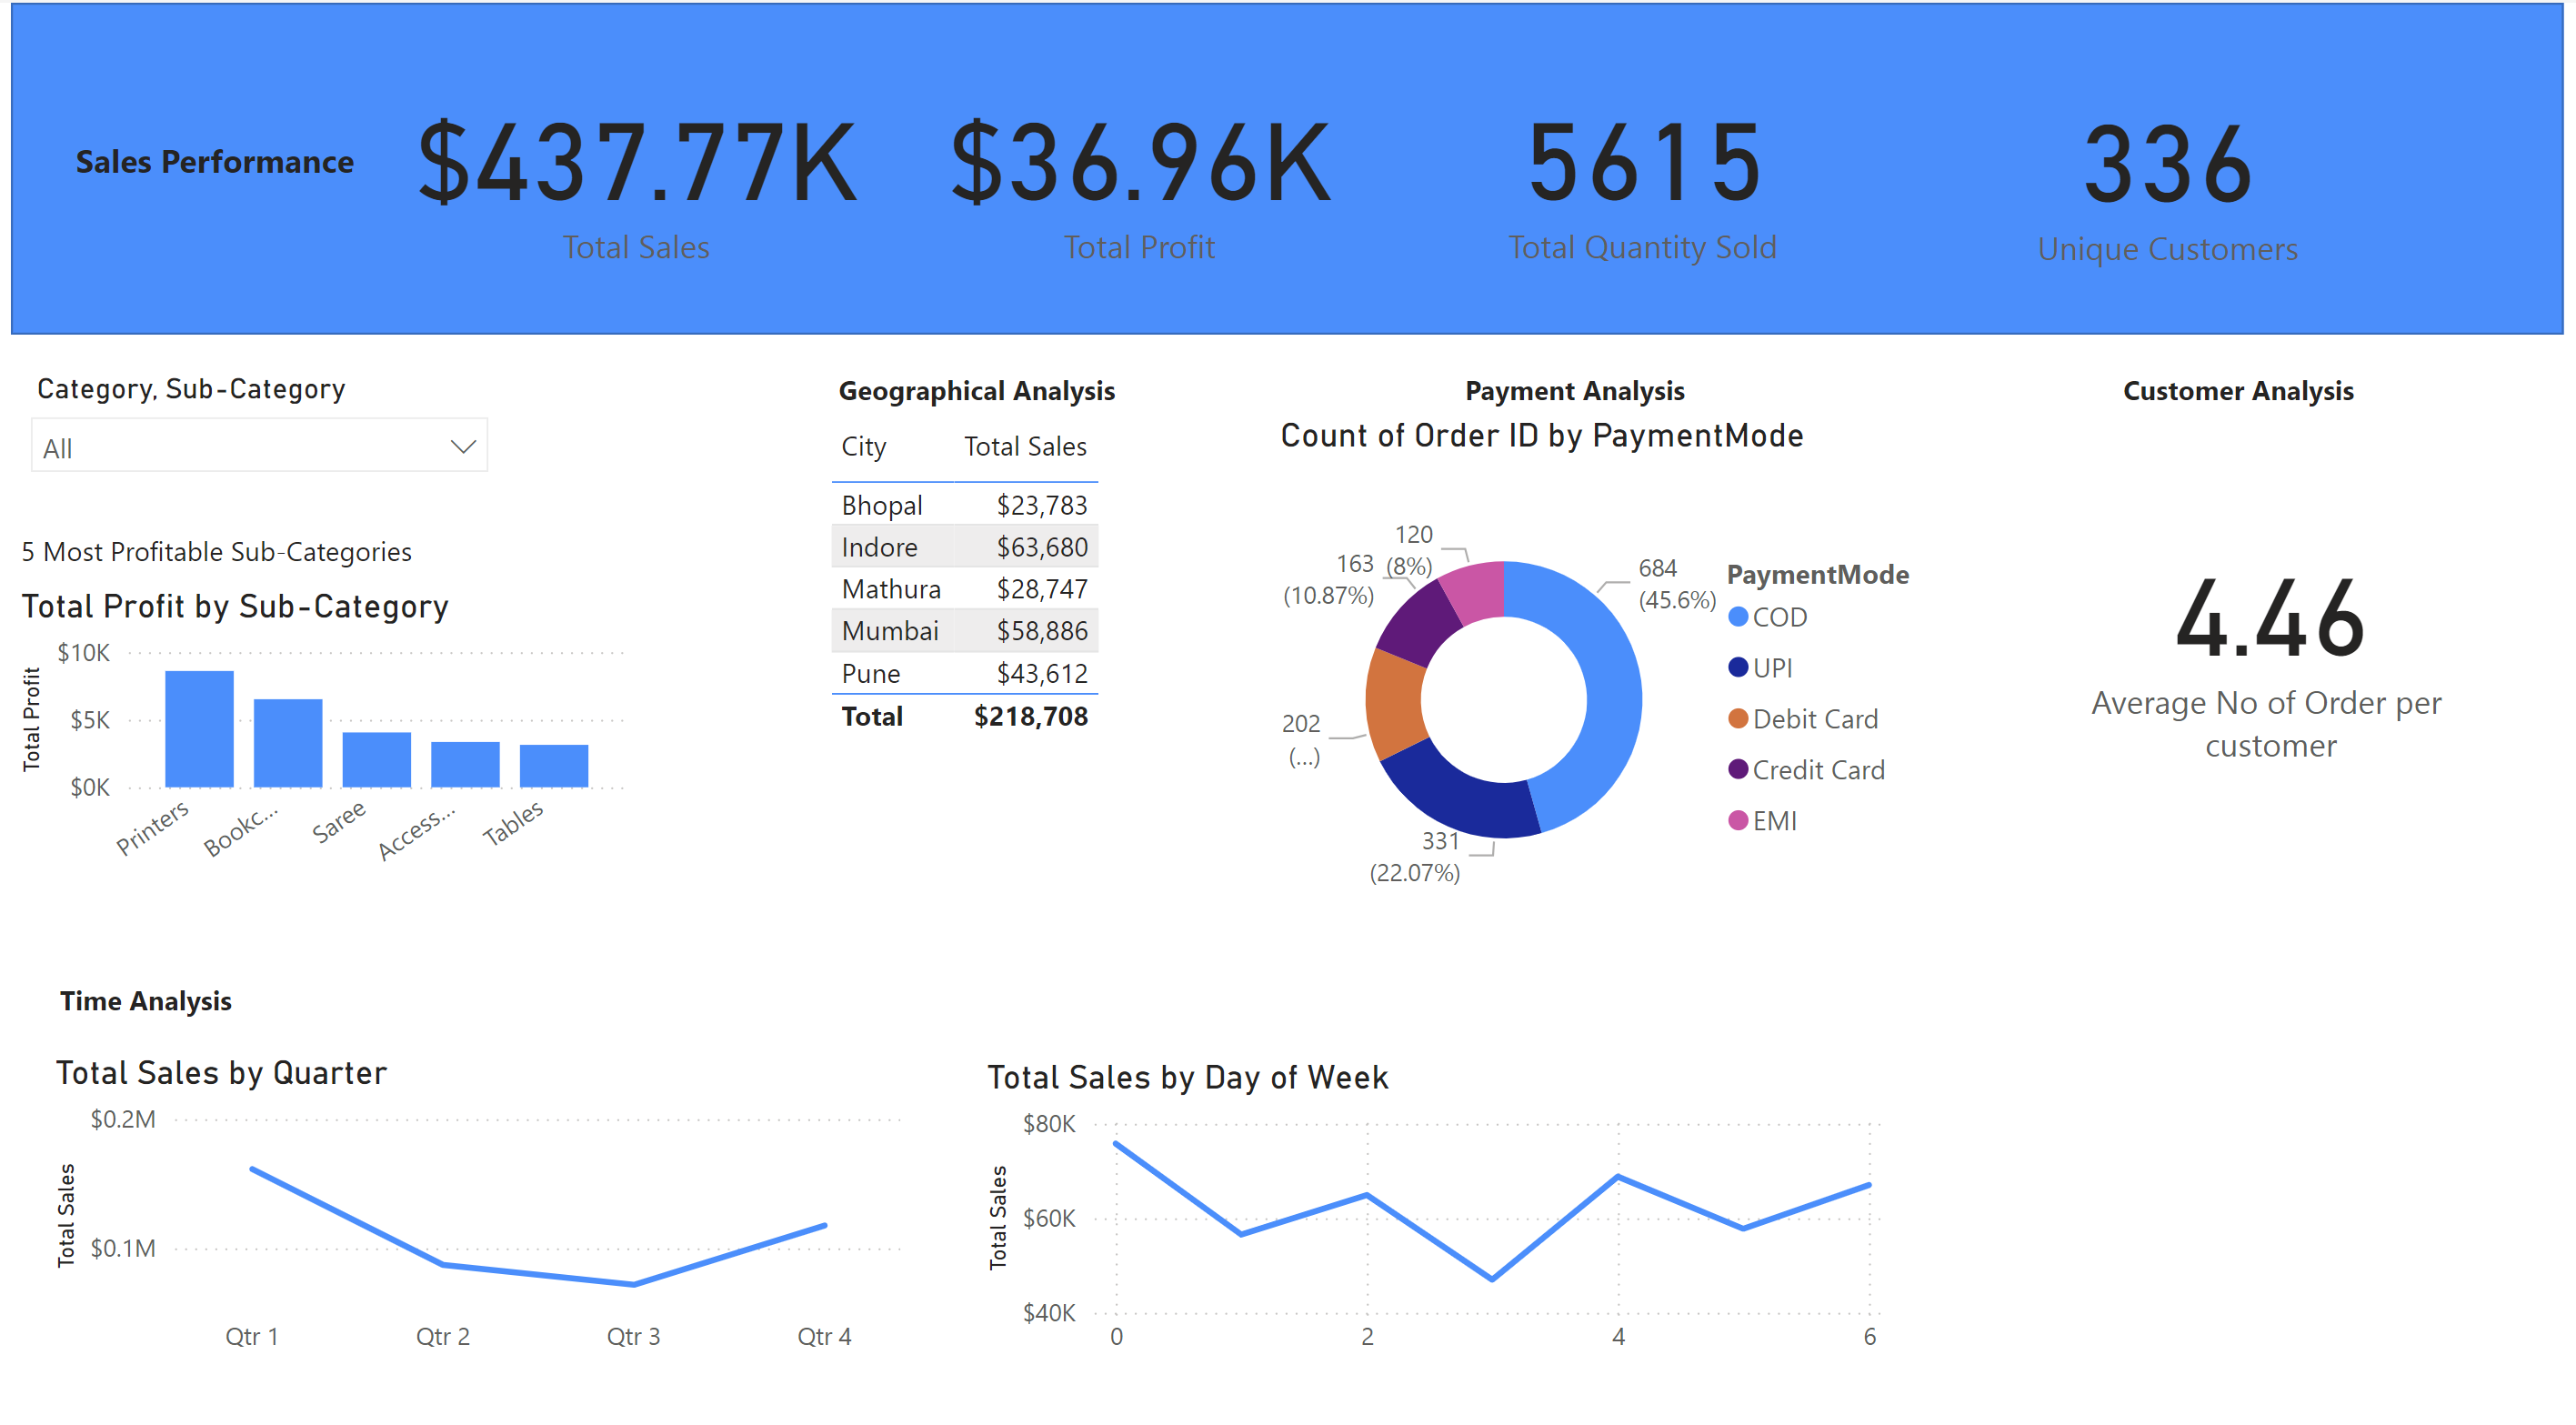

The dashboard page shown, as its layout file describes it:
{"tool":"powerbi","page":{"name":"Page 1","canvas":[1280,720],"ordinal":0},"visuals":[{"type":"shape","box":[9.6,0,1270.2,165.1],"z":0},{"type":"card","fields":{"Values":["Details.Total Profit"]},"box":[445.9,0,250.4,165.1],"z":1000},{"type":"card","fields":{"Values":["Details.Total Sales"]},"box":[195.4,0,250.4,165.1],"z":2000},{"type":"card","fields":{"Values":["Details.Total Quantity Sold"]},"box":[696.3,0,250.4,165.1],"z":3000},{"type":"textbox","box":[26.1,61.9,169.3,39.9],"z":4000},{"type":"slicer","title":"Category","fields":{"Values":["Details.Category","Details.Sub-Category"]},"box":[9.6,177.5,247.7,81.2],"z":5000},{"type":"textbox","box":[9.6,258.7,247.7,31.6],"z":6000},{"type":"clusteredColumnChart","fields":{"Category":["Details.Sub-Category"],"Y":["Details.Total Profit"]},"box":[9.6,290.4,311,150],"z":7000},{"type":"textbox","box":[415.6,177.5,155.5,31.6],"z":8000},{"type":"textbox","box":[728,177.5,155.5,28.9],"z":9000},{"type":"textbox","box":[1055.5,177.5,156.9,31.6],"z":10000},{"type":"columnChart","title":"Sales by City (Top 5)","fields":{"Category":["Orders.City"],"Y":["Details.Total Sales"]},"box":[349.3,231.7,250.1,156.3],"z":11000},{"type":"donutChart","fields":{"Category":["Details.PaymentMode"],"Y":["CountNonNull(Details.Order ID)"]},"box":[635.8,205,339.9,264.2],"z":12000},{"type":"card","fields":{"Values":["Details.Unique Customers"]},"box":[989.4,24.8,185.8,117],"z":13000},{"type":"card","fields":{"Values":["Details.Average Number of Order per customer"]},"box":[1026.6,205,213.3,207.8],"z":14000},{"type":"textbox","box":[28.1,482.1,105.3,42.1],"z":17000},{"type":"columnChart","title":"Profit by Month","fields":{"Category":["Orders.Order Date.Variation.Date Hierarchy.Month"],"Y":["Details.Total Sales","Details.Total Profit"]},"box":[391.6,470.7,888.1,250.1],"z":18000},{"type":"lineChart","fields":{"Category":["Orders.Order Date.Variation.Date Hierarchy.Quarter"],"Y":["Details.Total Sales"]},"box":[9.6,524.3,311,195.7],"z":18001}]}

Visuals, with their boxes in screenshot pixels (x1, y1, x2, y2), scaled from the page's 1280x720 canvas onto the 2576x1425 screenshot:
shape: [x1=19, y1=0, x2=2575, y2=326]
card - Details.Total Profit: [x1=897, y1=0, x2=1401, y2=326]
card - Details.Total Sales: [x1=393, y1=0, x2=897, y2=326]
card - Details.Total Quantity Sold: [x1=1401, y1=0, x2=1905, y2=326]
textbox: [x1=53, y1=123, x2=393, y2=202]
"Category" slicer: [x1=19, y1=351, x2=517, y2=512]
textbox: [x1=19, y1=512, x2=517, y2=575]
clusteredColumnChart - Details.Sub-Category x Details.Total Profit: [x1=19, y1=575, x2=646, y2=871]
textbox: [x1=837, y1=351, x2=1149, y2=414]
textbox: [x1=1465, y1=351, x2=1778, y2=408]
textbox: [x1=2124, y1=351, x2=2440, y2=414]
"Sales by City (Top 5)" columnChart: [x1=703, y1=458, x2=1207, y2=768]
donutChart - Details.PaymentMode x CountNonNull(Details.Order ID): [x1=1279, y1=406, x2=1963, y2=928]
card - Details.Unique Customers: [x1=1991, y1=49, x2=2365, y2=281]
card - Details.Average Number of Order per customer: [x1=2066, y1=406, x2=2495, y2=817]
textbox: [x1=56, y1=954, x2=268, y2=1038]
"Profit by Month" columnChart: [x1=788, y1=931, x2=2575, y2=1424]
lineChart - Orders.Order Date.Variation.Date Hierarchy.Quarter x Details.Total Sales: [x1=19, y1=1038, x2=646, y2=1424]
